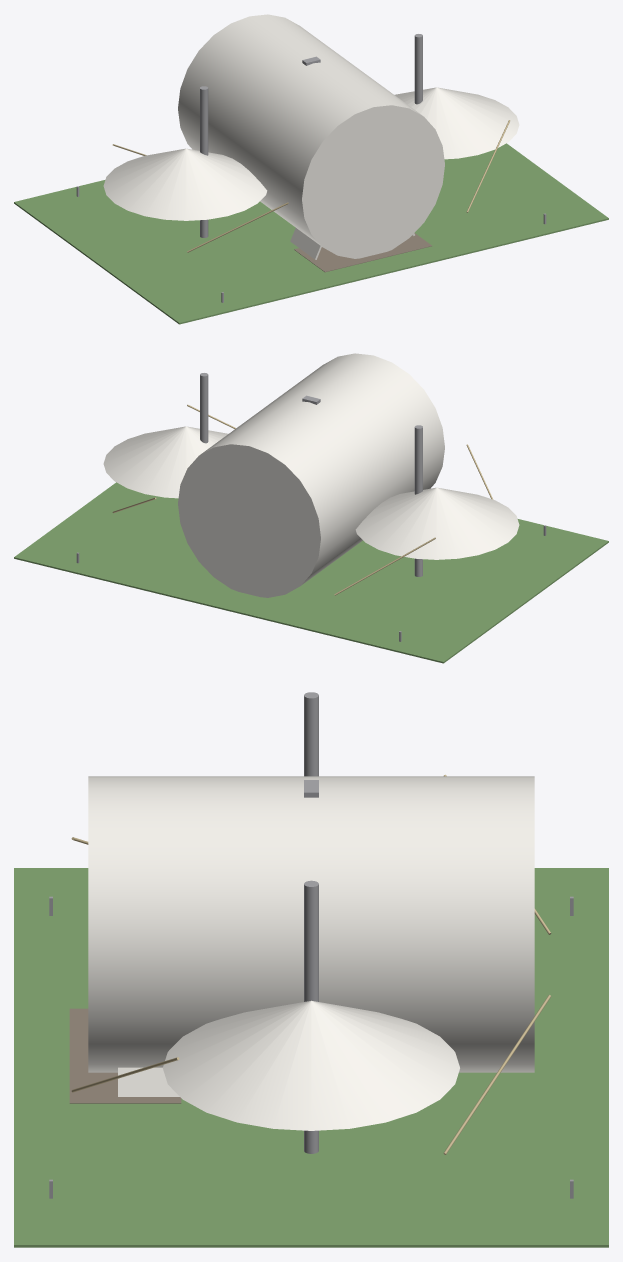
The model's file is field_hospital_tent.glb.
3 views of the same model, one above another, from view 1: azimuth 30°, elevation 25°; view 2: azimuth 150°, elevation 25°; view 3: azimuth 270°, elevation 25° (orthographic). The views are drawn at different scales.
Parts seen in each view (by area): view 1: tent_body, ground, end_cap_l, end_cap_r, ground_cloth, pole_l, pole_r, door_flap_l; view 2: tent_body, ground, end_cap_l, end_cap_r, pole_l, pole_r; view 3: ground, tent_body, end_cap_r, ground_cloth, pole_r, door_flap_r, pole_l.
Boxes of the visible parts, box(x1,y1,x2,y2) form: tent_body: box(178, 14, 444, 258); ground: box(14, 143, 608, 324); end_cap_l: box(103, 148, 267, 220); end_cap_r: box(395, 87, 519, 159); ground_cloth: box(294, 233, 431, 272); pole_l: box(200, 86, 208, 237); pole_r: box(414, 34, 422, 104); door_flap_l: box(290, 228, 321, 259); tent_body: box(178, 353, 444, 597); ground: box(14, 482, 608, 663); end_cap_l: box(355, 487, 519, 559); end_cap_r: box(103, 426, 227, 498); pole_l: box(414, 425, 422, 576); pole_r: box(200, 373, 208, 443); ground: box(14, 868, 608, 1247); tent_body: box(88, 776, 534, 1072); end_cap_r: box(163, 1000, 459, 1130); ground_cloth: box(69, 1008, 181, 1103); pole_r: box(304, 880, 318, 1153); door_flap_r: box(118, 1067, 179, 1096); pole_l: box(304, 692, 318, 776).
Bounding box in the file's own units: 12 × 4.05 × 8.
